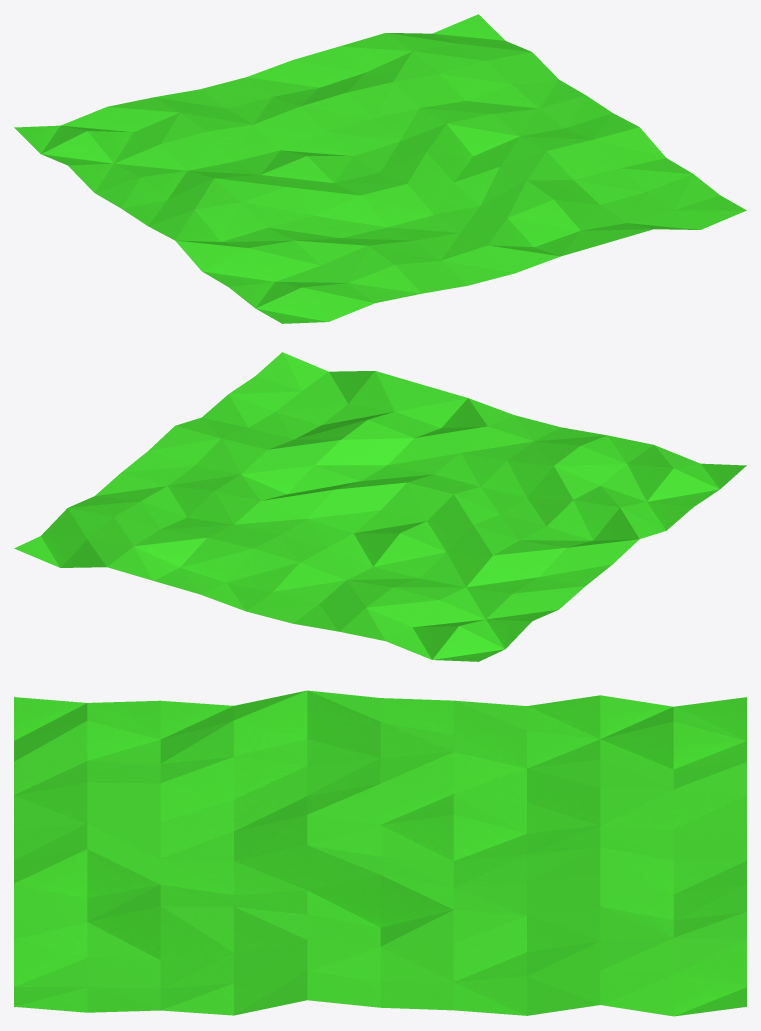
The model's file is grass.glb.
The picture shows the model from 3 angles, top to bottom: view 1: azimuth 30°, elevation 25°; view 2: azimuth 150°, elevation 25°; view 3: azimuth 270°, elevation 25°; orthographic projection. The views are drawn at different scales.
Parts seen in each view (by area): view 1: Plain_0.002; view 2: Plain_0.002; view 3: Plain_0.002.
Part boxes in pixels (x1,y1,x2,y2): Plain_0.002: (14, 14, 746, 323); Plain_0.002: (14, 352, 746, 661); Plain_0.002: (14, 690, 746, 1016).
Size of the model in its own units: 10 by 0.3544 by 10.
Materials: 1 (1 with a texture image).
